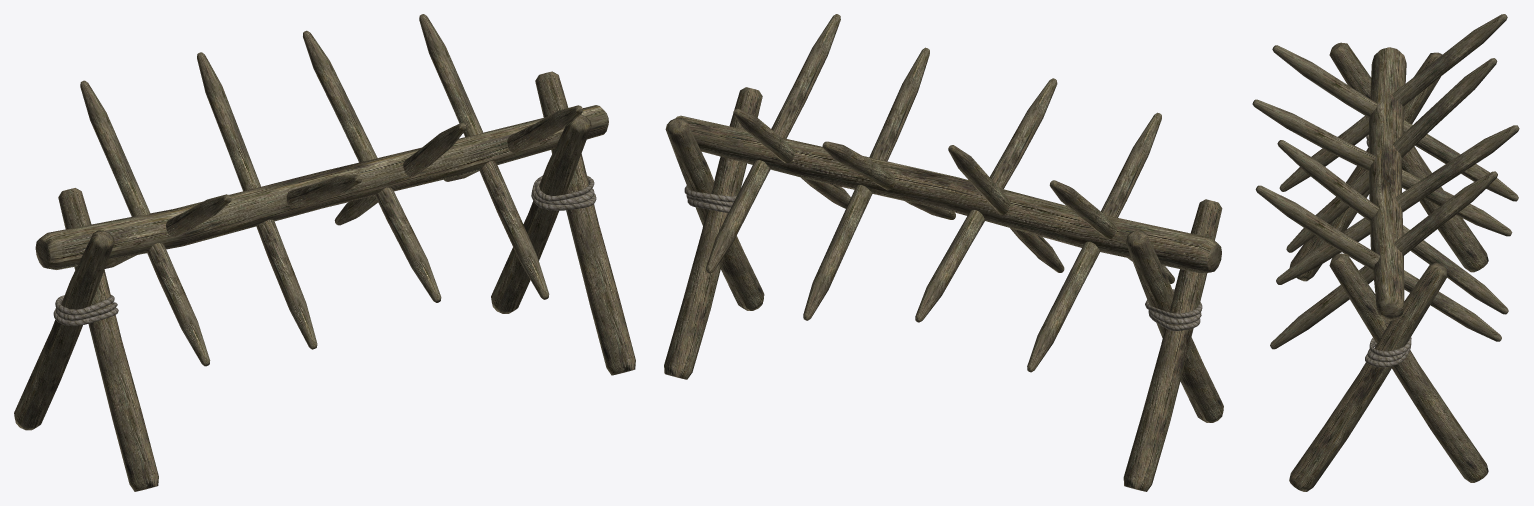
Rendered from barricade.fbx.
3 renders of one model, left to right at view 1: azimuth 30°, elevation 25°; view 2: azimuth 150°, elevation 25°; view 3: azimuth 270°, elevation 25°, orthographic. The views are drawn at different scales.
Visible parts, largest first — view 1: MGH-ChevalDeFrise_2916.Shape; view 2: MGH-ChevalDeFrise_2916.Shape; view 3: MGH-ChevalDeFrise_2916.Shape.
Part boxes in pixels (box(x1,y1,x2,y2)): MGH-ChevalDeFrise_2916.Shape: box(14, 14, 635, 491); MGH-ChevalDeFrise_2916.Shape: box(664, 14, 1223, 491); MGH-ChevalDeFrise_2916.Shape: box(1252, 14, 1519, 491).
Bounding box in the file's own units: 250 × 138 × 114.
3 materials, 3 textured.
